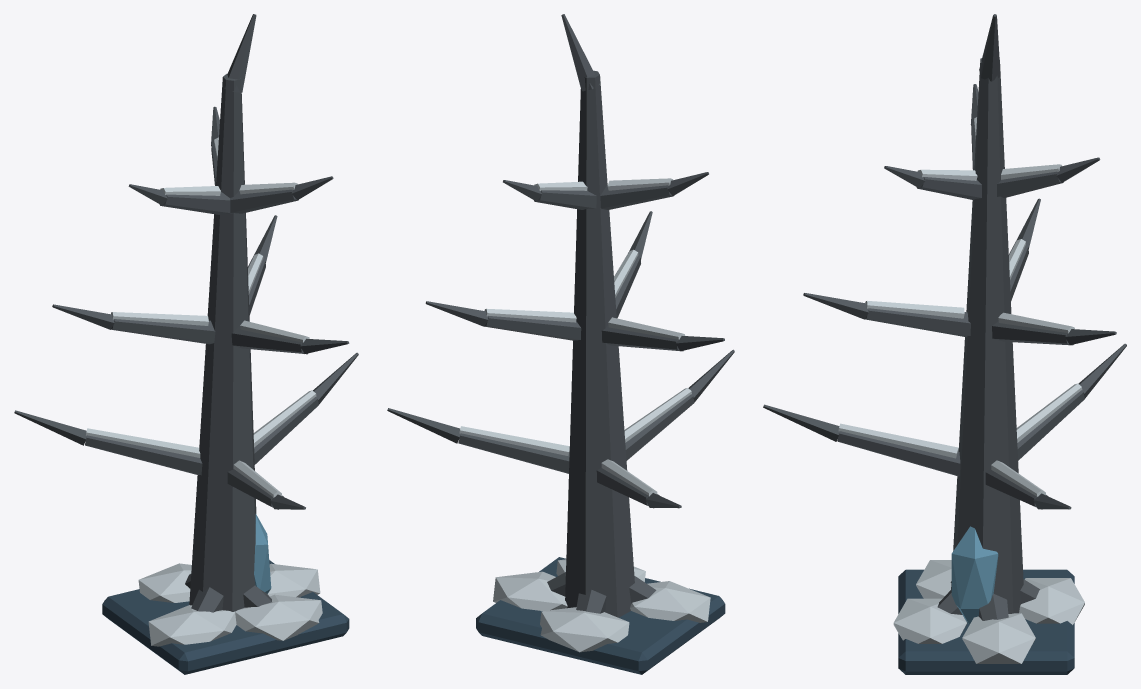
File: wastes_dead_pine.glb
3 views of the same model, side by side, from view 1: azimuth 30°, elevation 25°; view 2: azimuth 150°, elevation 25°; view 3: azimuth 270°, elevation 25° (orthographic). The views are drawn at different scales.
Visible parts, largest first — view 1: wastes_dead_pine; view 2: wastes_dead_pine; view 3: wastes_dead_pine.
Boxes of the visible parts, <box> form: wastes_dead_pine: <box>14,14,358,674</box>; wastes_dead_pine: <box>387,14,734,674</box>; wastes_dead_pine: <box>763,14,1126,674</box>.
Bounding box in the file's own units: 1.35 × 2.43 × 1.26.
